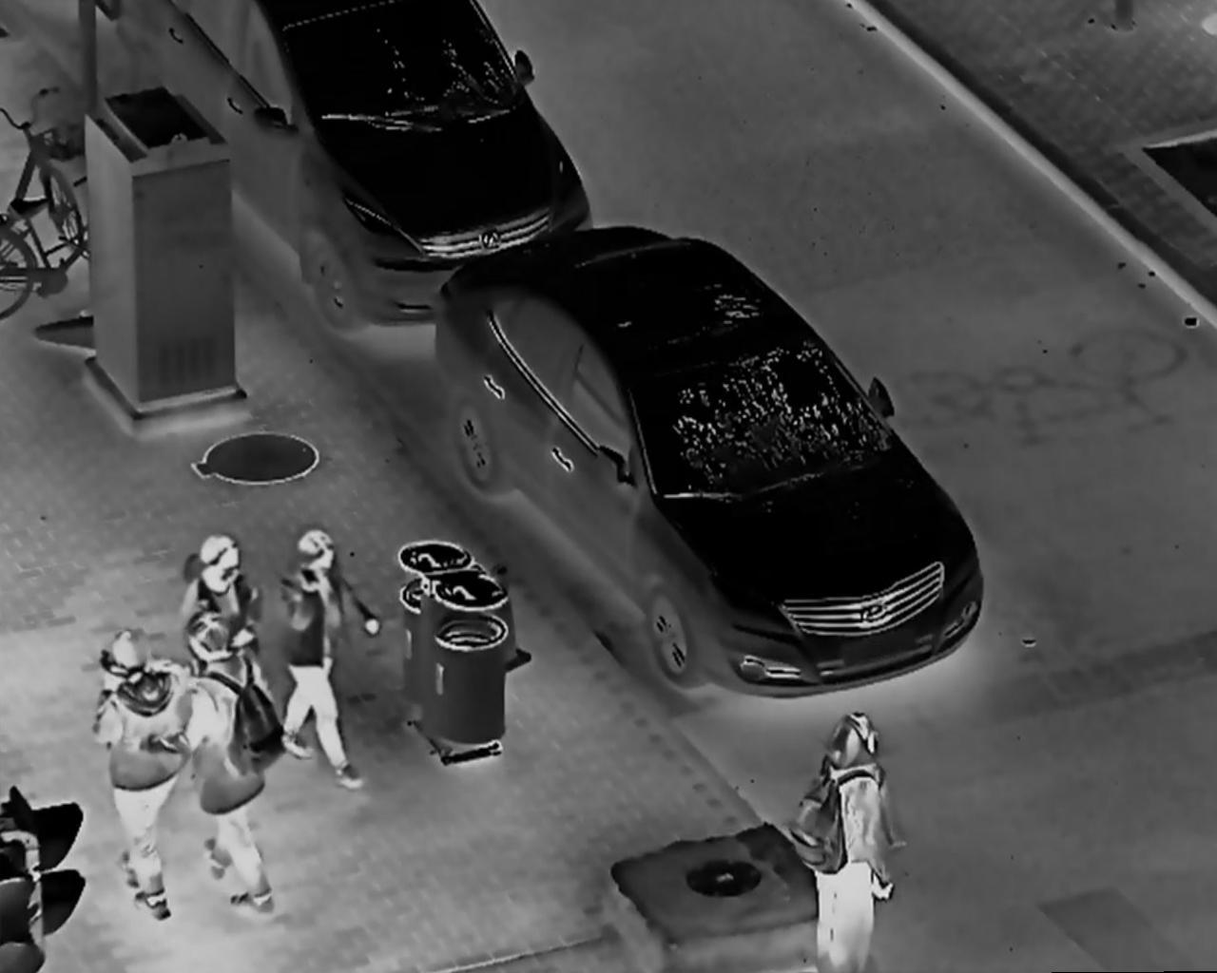person: (170, 607, 286, 919), (83, 622, 195, 922), (276, 525, 386, 796), (797, 709, 907, 973), (172, 532, 281, 771)
